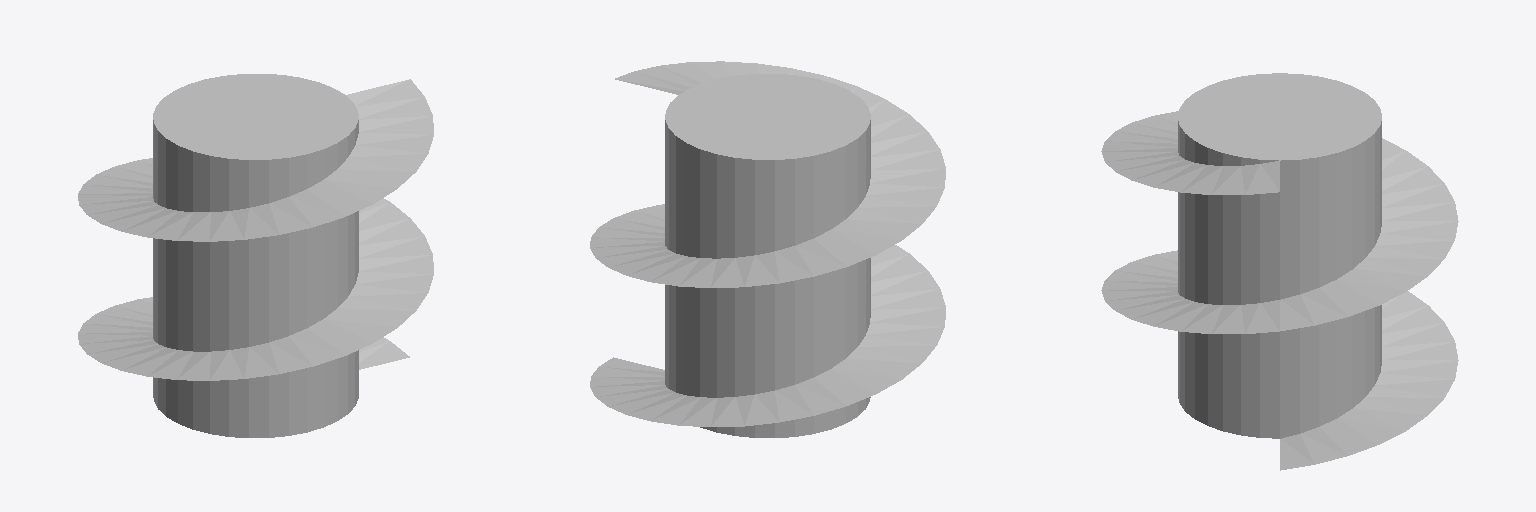
The model's file is circleramp.obj.
The picture shows the model from 3 angles: view 1: azimuth 30°, elevation 25°; view 2: azimuth 150°, elevation 25°; view 3: azimuth 270°, elevation 25°; orthographic projection.
Parts seen in each view (by area): view 1: Cylinder, Plane; view 2: Cylinder, Plane; view 3: Cylinder, Plane.
Part boxes in pixels (left/top/right/bottom): Cylinder: left=153, top=74, right=358, bottom=437; Plane: left=78, top=79, right=433, bottom=380; Cylinder: left=665, top=74, right=870, bottom=437; Plane: left=590, top=61, right=945, bottom=426; Cylinder: left=1178, top=73, right=1381, bottom=438; Plane: left=1101, top=111, right=1458, bottom=470.
Size of the model in its own units: 3.49 by 3 by 3.49.